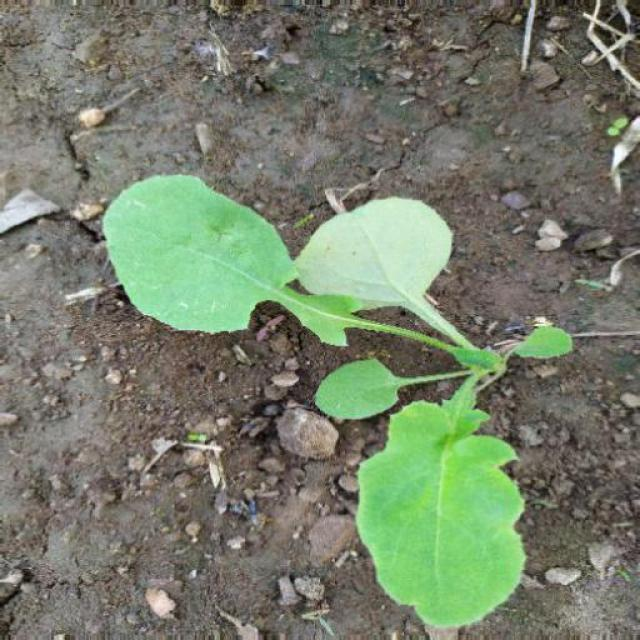weed: (95, 156, 575, 632)
